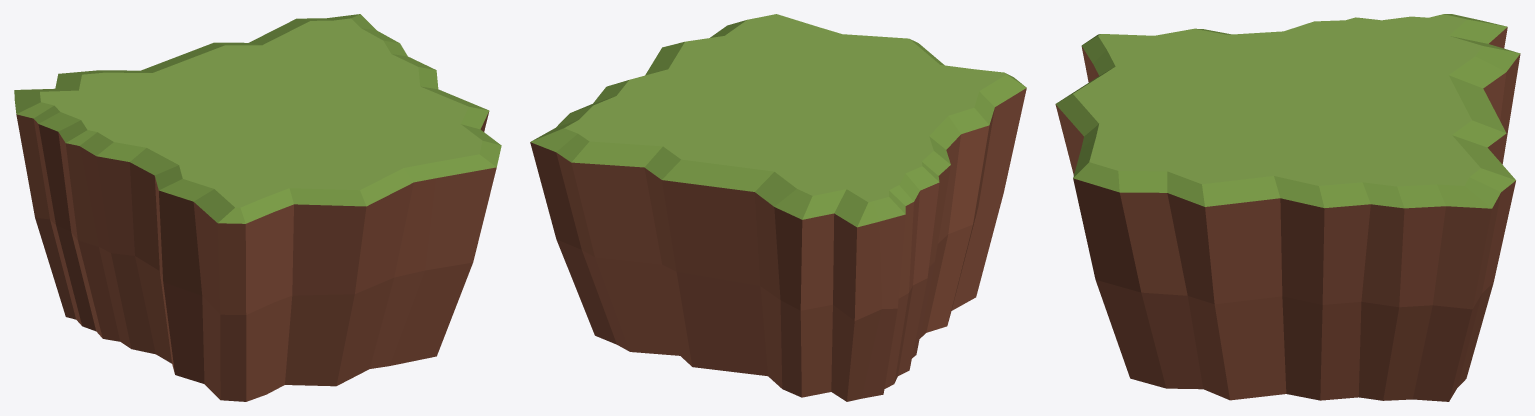
Rendered from grassGround.fbx.
The picture shows the model from 3 angles, left to right: view 1: azimuth 30°, elevation 25°; view 2: azimuth 150°, elevation 25°; view 3: azimuth 270°, elevation 25°; orthographic projection. The views are drawn at different scales.
Visible parts, largest first — view 1: Plane; view 2: Plane; view 3: Plane.
Part boxes in pixels (x1=…): Plane: x1=14, y1=14, x2=501, y2=401; Plane: x1=530, y1=14, x2=1026, y2=401; Plane: x1=1055, y1=14, x2=1520, y2=401.
Bounding box in the file's own units: 234 × 130 × 238.
